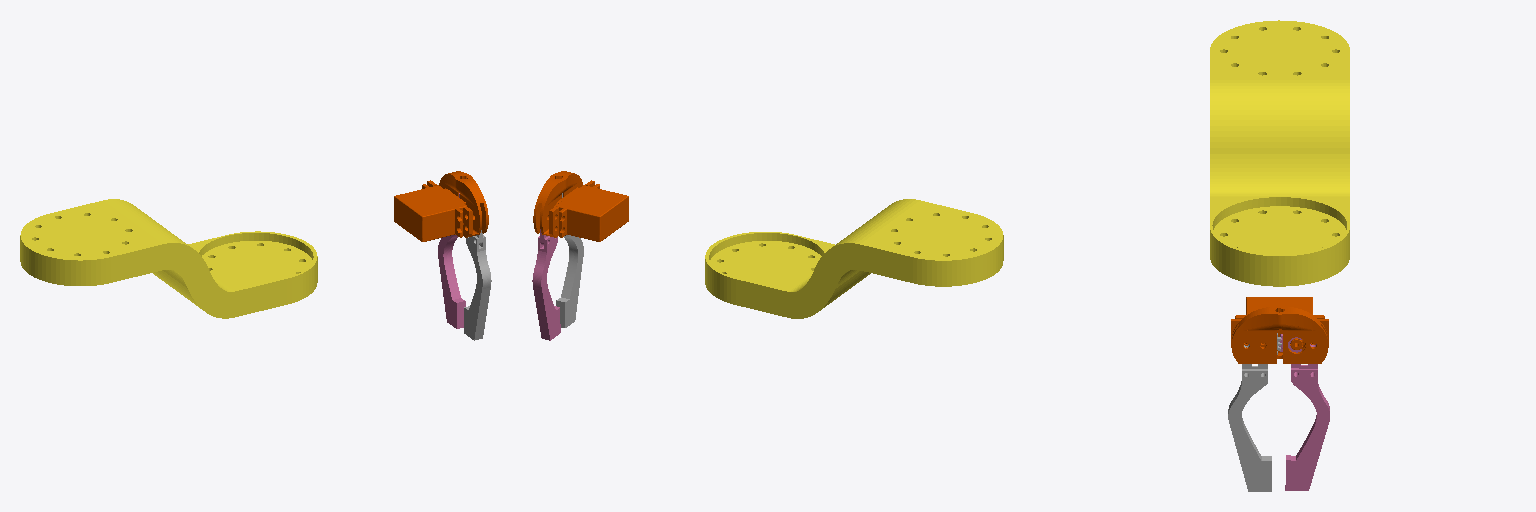
robot.urdf — my_robot:
<?xml version="1.0" ?>
<robot name="my_robot">

  

  
  <link name="world"/>
  <link name="BASE">
    <inertial>
      <origin rpy="0.0 0.0 0.0" xyz="0.020675 -0.004607 -0.059678"/>
      <mass value="12.084188"/>
      <inertia ixx="0.137534" ixy="0.000139" ixz="-0.000018" iyy="0.082523" iyz="-0.026951" izz="0.137154"/>
    </inertial>
    <visual>
      <geometry>
        <mesh filename="package://my_robot_description/meshes/BASE.stl" scale="0.001 0.001 0.001"/>
      </geometry>
    </visual>
    <collision>
      <geometry>
        <mesh filename="package://my_robot_description/meshes/BASE.stl" scale="0.001 0.001 0.001"/>
      </geometry>
    </collision>
  </link>
  

  <joint name="BASE_Slider-1" type="prismatic">
    <origin rpy="0 0 -3.14159265359" xyz="-0.026999 -0.00005 0.0"/>
    <parent link="BASE"/>
    <child link="LINK1"/>
    <axis xyz="0 -1 0"/>
    <limit effort="1000" lower="0.0" upper="0.183" velocity="1.0"/>
  </joint>

  <link name="LINK1">
    <inertial>
      <origin rpy="0.0 0.0 0.0" xyz="-0.048303 0.005349 0.097181"/>
      <mass value="5.265839"/>
      <inertia ixx="0.024010" ixy="-0.000094" ixz="-0.000185" iyy="0.024414" iyz="-0.004167" izz="0.009172"/>
    </inertial>
    <visual>
      <origin rpy="0 0 3.14159265359" xyz="-0.026999 -0.003849 0.0"/>
      <geometry>
        <mesh filename="package://my_robot_description/meshes/LINK1.stl" scale="0.001 0.001 0.001"/>
      </geometry>
    </visual>
    <collision>
      <origin rpy="0 0 3.14159265359" xyz="-0.026999 -0.003849 0.0"/>
      <geometry>
        <mesh filename="package://my_robot_description/meshes/LINK1.stl" scale="0.001 0.001 0.001"/>
      </geometry>
    </collision>
  </link>

  <joint name="LINK1_Revolute-2" type="revolute">
    <origin rpy="0 0 0" xyz="-0.0475 -0.016304 0.168999"/>
    <parent link="LINK1"/>
    <child link="LINK2"/>
    <axis xyz="0 -1 0"/>
    <limit effort="1000" lower="-1.570796326795" upper="1.570796326795" velocity="1.0"/>
  </joint>

  <link name="LINK2">
    <inertial>
      <origin rpy="0.0 0.0 0.0" xyz="0.0 0.020884 0.070195"/>
      <mass value="2.538582"/>
      <inertia ixx="0.008956" ixy="0.0" ixz="0.0" iyy="0.008908" iyz="-0.002911" izz="0.002949"/>
    </inertial>
    <visual>
      <origin rpy="0 0 3.14159265359" xyz="0.0205 0.012455 -0.169"/>
      <geometry>
        <mesh filename="package://my_robot_description/meshes/LINK2.stl" scale="0.001 0.001 0.001"/>
      </geometry>
    </visual>
    <collision>
      <origin rpy="0 0 3.14159265359" xyz="0.0205 0.012455 -0.169"/>
      <geometry>
        <mesh filename="package://my_robot_description/meshes/LINK2.stl" scale="0.001 0.001 0.001"/>
      </geometry>
    </collision>
  </link>
  <joint name="virtual_joint" type="fixed">
    <parent link="world"/>
    <child link="BASE"/>
    <origin rpy="1.57079632679 0 1.57079632679" xyz="0 0 0"/>
  </joint>
  <joint name="LINK2_Revolute-3" type="revolute">
    <origin rpy="0 0 0" xyz="0.0 0.041999 0.1402"/>
    <parent link="LINK2"/>
    <child link="LINK3"/>
    <axis xyz="0 -1 0"/>
    <limit effort="1000" lower="-1.570796326795" upper="1.570796326795" velocity="1.0"/>
  </joint>

  <link name="LINK3">
    <inertial>
      <origin rpy="0.0 0.0 0.0" xyz="0.0 -0.037572 0.062436"/>
      <mass value="4.302962"/>
      <inertia ixx="0.019982" ixy="-0.000024" ixz="0.000037" iyy="0.020398" iyz="0.000921" izz="0.004942"/>
    </inertial>
    <visual>
      <origin rpy="0 0 3.14159265359" xyz="0.0205 -0.029544 -0.3092"/>
      <geometry>
        <mesh filename="package://my_robot_description/meshes/LINK3.stl" scale="0.001 0.001 0.001"/>
      </geometry>
    </visual>
    <collision>
      <origin rpy="0 0 3.14159265359" xyz="0.0205 -0.029544 -0.3092"/>
      <geometry>
        <mesh filename="package://my_robot_description/meshes/LINK3.stl" scale="0.001 0.001 0.001"/>
      </geometry>
    </collision>
  </link>

  <joint name="LINK3_Revolute-4" type="revolute">
    <origin rpy="3.14159265359 0 0" xyz="0.0 -0.024605 0.167999"/>
    <parent link="LINK3"/>
    <child link="LINK4"/>
    <axis xyz="0 -1 0"/>
    <limit effort="1000" lower="0.0" upper="6.28318530718" velocity="1.0"/>
  </joint>

  <link name="LINK4">
    <inertial>
      <origin rpy="0.0 0.0 0.0" xyz="0.0 -0.017032 0.020227"/>
      <mass value="0.320556"/>
      <inertia ixx="0.000081" ixy="0.0" ixz="0.0" iyy="0.000118" iyz="0.000006" izz="0.000071"/>
    </inertial>
    <visual>
      <origin rpy="0 -1.570796326795 0" xyz="0.477191 0.00469 -0.0205"/>
      <geometry>
        <mesh filename="package://my_robot_description/meshes/LINK4.stl" scale="0.001 0.001 0.001"/>
      </geometry>
    </visual>
    <collision>
      <origin rpy="0 -1.570796326795 0" xyz="0.477191 0.00469 -0.0205"/>
      <geometry>
        <mesh filename="package://my_robot_description/meshes/LINK4.stl" scale="0.001 0.001 0.001"/>
      </geometry>
    </collision>
  </link>

  <joint name="LINK4_Revolute-5" type="revolute">
    <origin rpy="1.570796326795 0 -1.570806" xyz="-0.010058 -0.018 -0.002549"/>
    <parent link="LINK4"/>
    <child link="FINGER1"/>
    <axis xyz="0 -1 0"/>
    <limit effort="1000" lower="0.0" upper="0.7853981633975" velocity="1.0"/>
  </joint>

  <link name="FINGER1">
    <inertial>
      <origin rpy="0.0 0.0 0.0" xyz="0.052675 0.002507 0.006236"/>
      <mass value="0.059"/>
      <inertia ixx="0.00001" ixy="0.0" ixz="0.0" iyy="0.000055" iyz="0.0" izz="0.000052"/>
    </inertial>
    <visual>
      <origin rpy="0 0 1.570796326795" xyz="-0.022694 -0.017951 -0.487249"/>
      <geometry>
        <mesh filename="package://my_robot_description/meshes/FINGER1.stl" scale="0.001 0.001 0.001"/>
      </geometry>
    </visual>
    <collision>
      <origin rpy="0 0 1.570796326795" xyz="-0.022694 -0.017951 -0.487249"/>
      <geometry>
        <mesh filename="package://my_robot_description/meshes/FINGER1.stl" scale="0.001 0.001 0.001"/>
      </geometry>
    </collision>
  </link>

  <joint name="LINK4_Revolute-6" type="revolute">
    <origin rpy="1.570796326795 0 -1.570806" xyz="0.010041 -0.018 -0.00355"/>
    <parent link="LINK4"/>
    <child link="FINGER2"/>
    <axis xyz="0 -1 0"/>
    <limit effort="1000" lower="-0.7853981633975" upper="0.0" velocity="1.0"/>
    <mimic joint="LINK4_Revolute-5" multiplier="-1.0" offset="0.0"/>
  </joint>

  <link name="FINGER2">
    <inertial>
      <origin rpy="0.0 0.0 0.0" xyz="0.052675 0.003507 -0.007208"/>
      <mass value="0.059"/>
      <inertia ixx="0.00001" ixy="0.0" ixz="0.0" iyy="0.000055" iyz="0.0" izz="0.000052"/>
    </inertial>
    <visual>
      <origin rpy="0 0 1.570796326795" xyz="-0.022694 -0.017951 -0.467149"/>
      <geometry>
        <mesh filename="package://my_robot_description/meshes/FINGER2.stl" scale="0.001 0.001 0.001"/>
      </geometry>
    </visual>
    <collision>
      <origin rpy="0 0 1.570796326795" xyz="-0.022694 -0.017951 -0.467149"/>
      <geometry>
        <mesh filename="package://my_robot_description/meshes/FINGER2.stl" scale="0.001 0.001 0.001"/>
      </geometry>
    </collision>
  </link>
    








</robot>

--- Render facts (derived) ---
The picture shows the robot from 3 angles, left to right: view 1: azimuth 30°, elevation 25°; view 2: azimuth 150°, elevation 25°; view 3: azimuth 270°, elevation 25°; orthographic projection.
Robot: my_robot — 8 links, 7 joints (5 revolute, 1 prismatic, 1 fixed); root link world; default pose: all joints at 0.
Links seen in each view (by area): view 1: LINK2, LINK4, FINGER2, FINGER1; view 2: LINK2, LINK4, FINGER1, FINGER2; view 3: LINK2, LINK4, FINGER1, FINGER2.
Boxes of the visible links, bbox=[...] form: LINK2: bbox=[20, 199, 317, 318]; LINK4: bbox=[394, 171, 488, 241]; FINGER2: bbox=[464, 230, 491, 340]; FINGER1: bbox=[438, 193, 465, 328]; LINK2: bbox=[705, 199, 1003, 318]; LINK4: bbox=[533, 171, 628, 241]; FINGER1: bbox=[532, 229, 560, 340]; FINGER2: bbox=[556, 193, 583, 327]; LINK2: bbox=[1210, 20, 1349, 286]; LINK4: bbox=[1231, 297, 1328, 363]; FINGER1: bbox=[1279, 334, 1329, 490]; FINGER2: bbox=[1228, 333, 1281, 491].
Size in the robot's own frame: 0.3578 by 0.084 by 0.1455 metres.
Meshes: 7 distinct files referenced, 4 mesh visuals loaded (4 binary STL); not drawn: 3 (reference not matched to a file when rendering).
